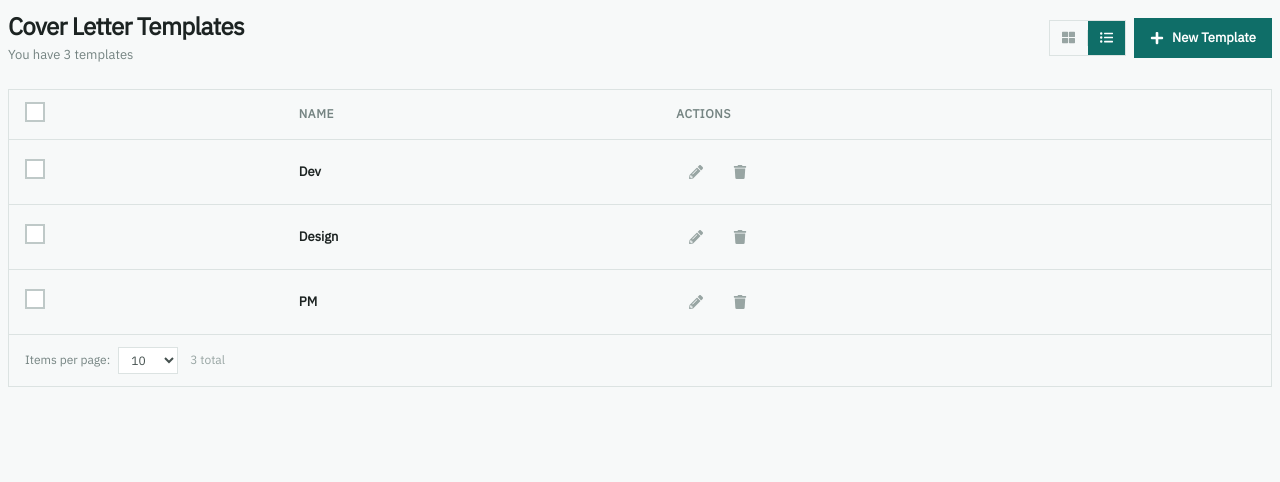
Test: TemplatesView — selection logic › shows batch action bar when a row checkbox is clicked
The width and height of the screenshot is (1280, 482).
Expected: the text "Dev" is shown, [299,163,321,180]
Step 1. Click the checkbox in the row of "Dev" → (35, 169), box [25,159,45,179]
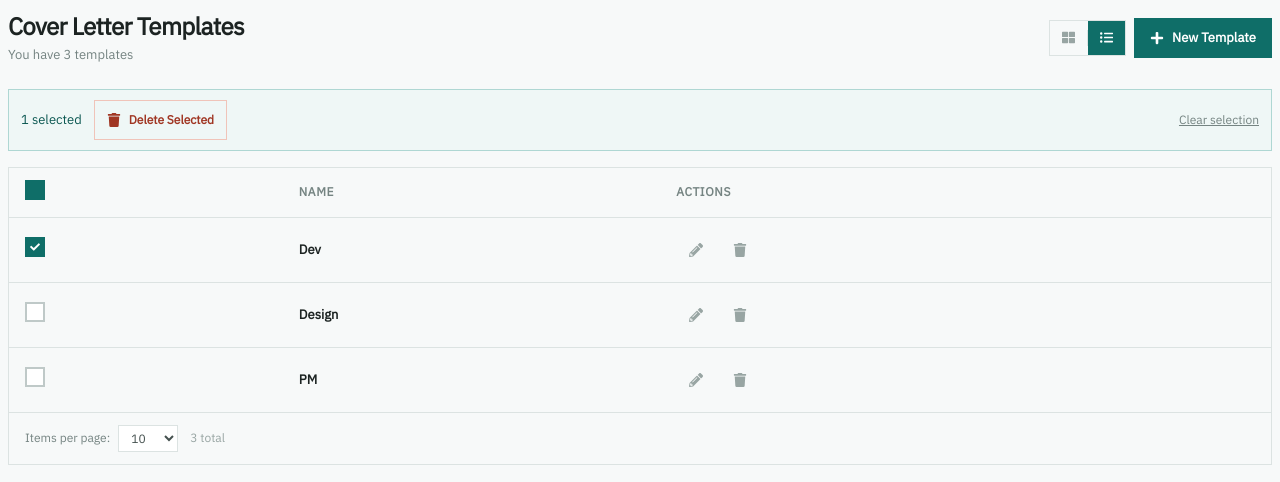
Result: the text "1 selected" is shown at [21,110,82,129]
Result: the text "Delete Selected" is shown at [129,110,214,128]
Result: the button "Clear selection" is shown at [1179,110,1259,128]
